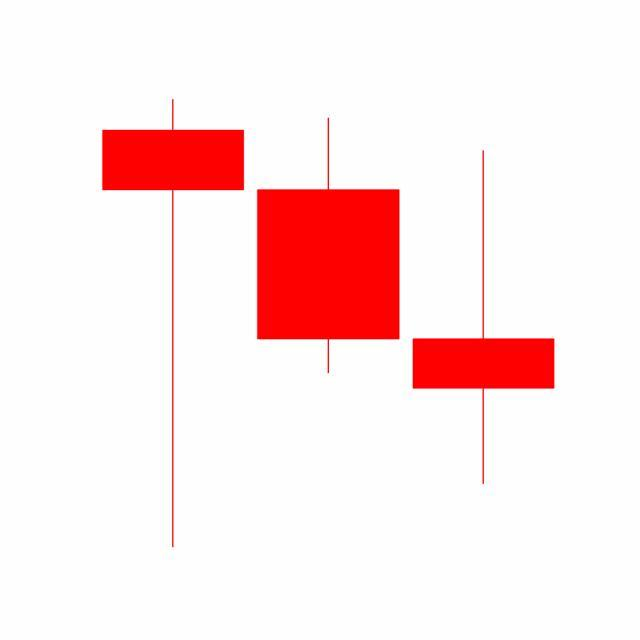Spinning Top: (406, 147, 562, 488)
